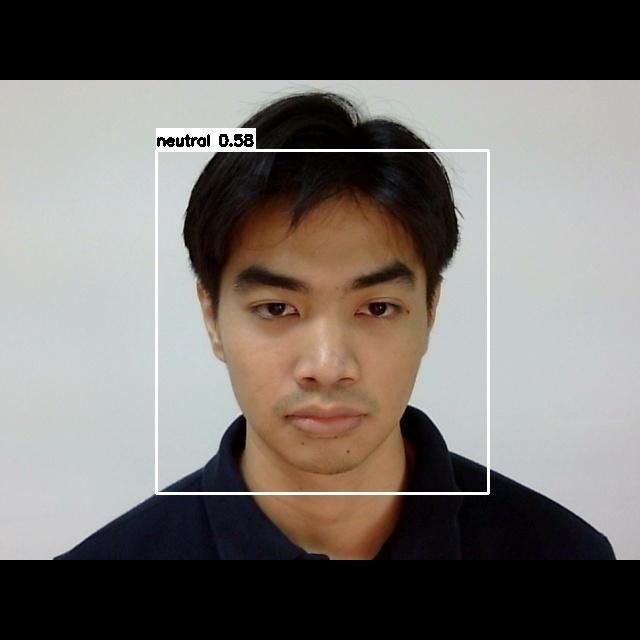Natural: (221, 251, 434, 443)
